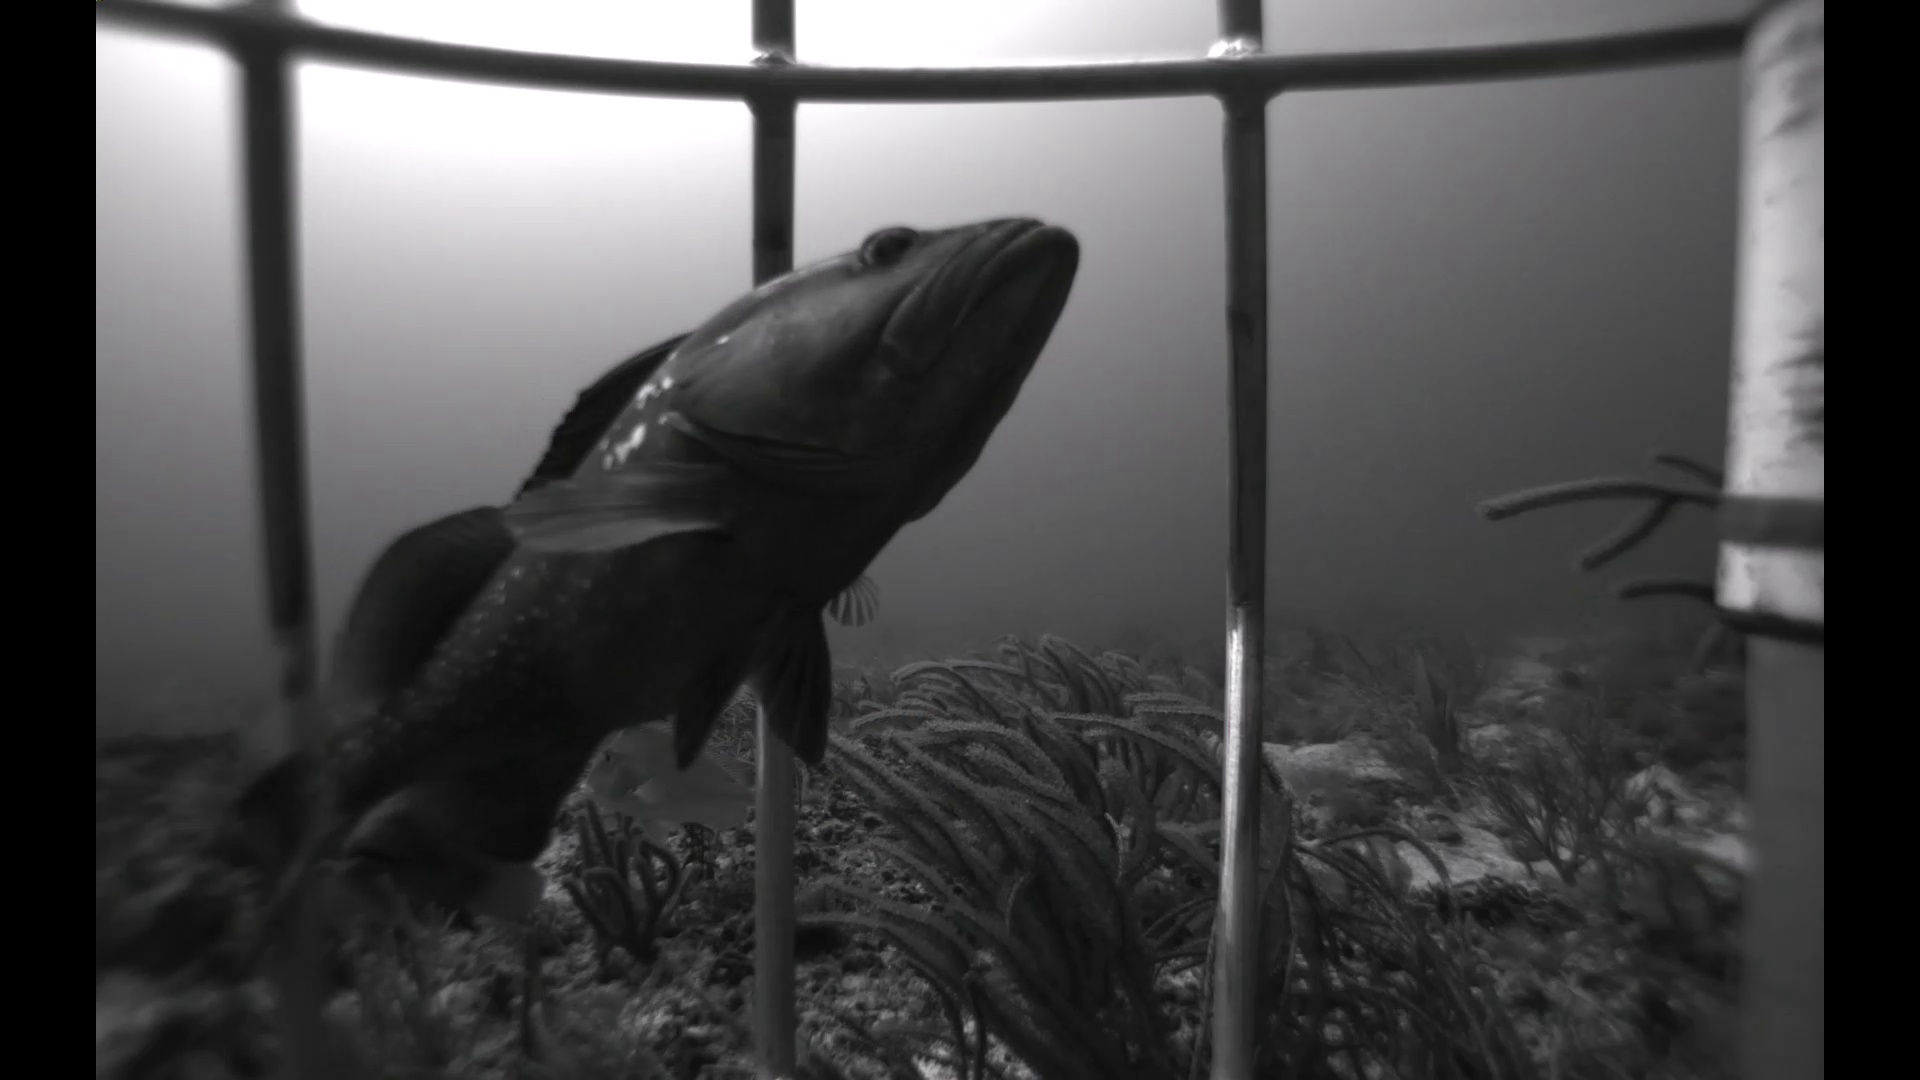CALAMUSNODOSUS-170210608: (582, 707, 754, 855)
EPINEPHELUSMORIO-170021211: (113, 195, 1101, 1007), (305, 771, 588, 945), (1640, 659, 1746, 723)
LUTJANUSGRISEUS-170151109: (299, 607, 357, 712)
POMACANTHUSARCUATUS-170290201: (1398, 636, 1491, 774)
